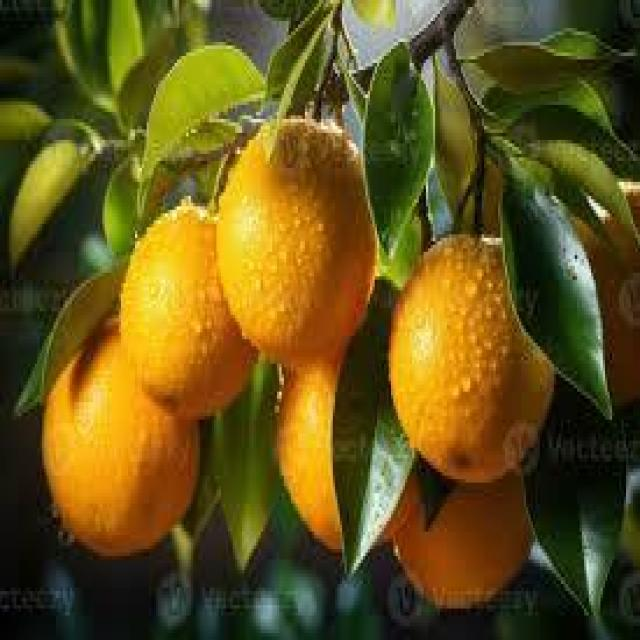fruit: (392, 220, 561, 483), (216, 120, 373, 362), (43, 318, 197, 553), (121, 204, 256, 417), (393, 465, 534, 607), (276, 353, 374, 551), (566, 183, 640, 404)
